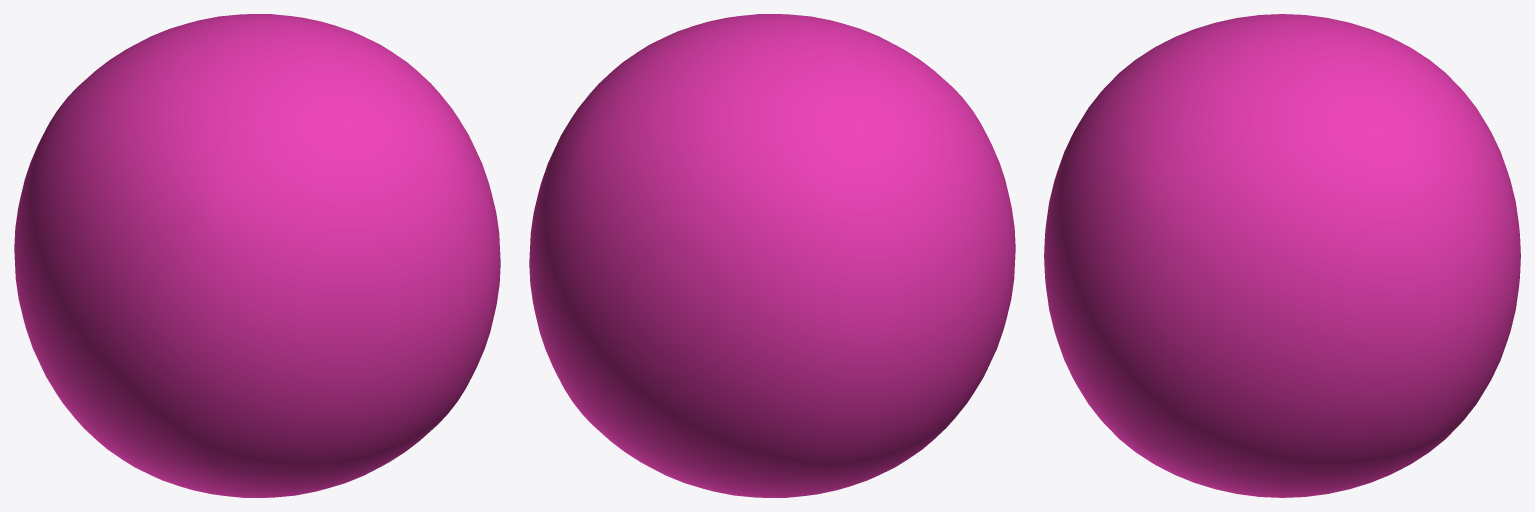
Rendered from ball_large.glb.
The picture shows the model from 3 angles, left to right: view 1: azimuth 30°, elevation 25°; view 2: azimuth 150°, elevation 25°; view 3: azimuth 270°, elevation 25°; orthographic projection.
Parts seen in each view (by area): view 1: Cube; view 2: Cube; view 3: Cube.
Part boxes in pixels (x1,y1,x2,y2): Cube: (14, 14, 500, 497); Cube: (529, 14, 1015, 497); Cube: (1044, 14, 1520, 497).
Size of the model in its own units: 2 by 2 by 2.
